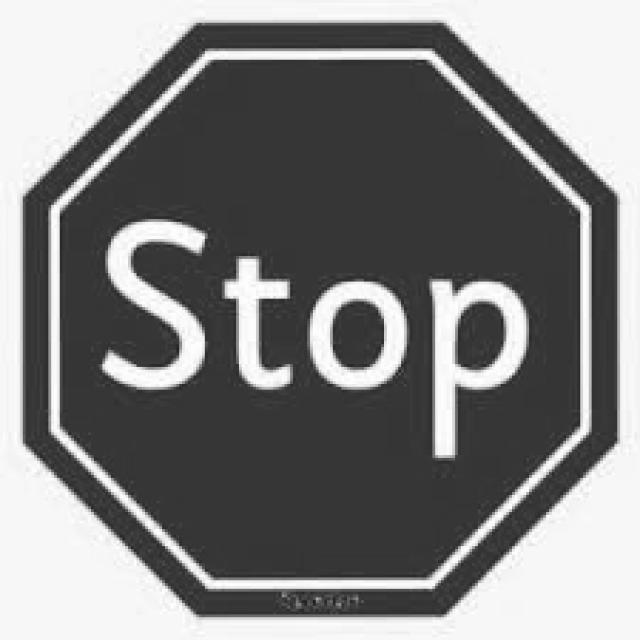stop sign: (30, 21, 618, 611)
